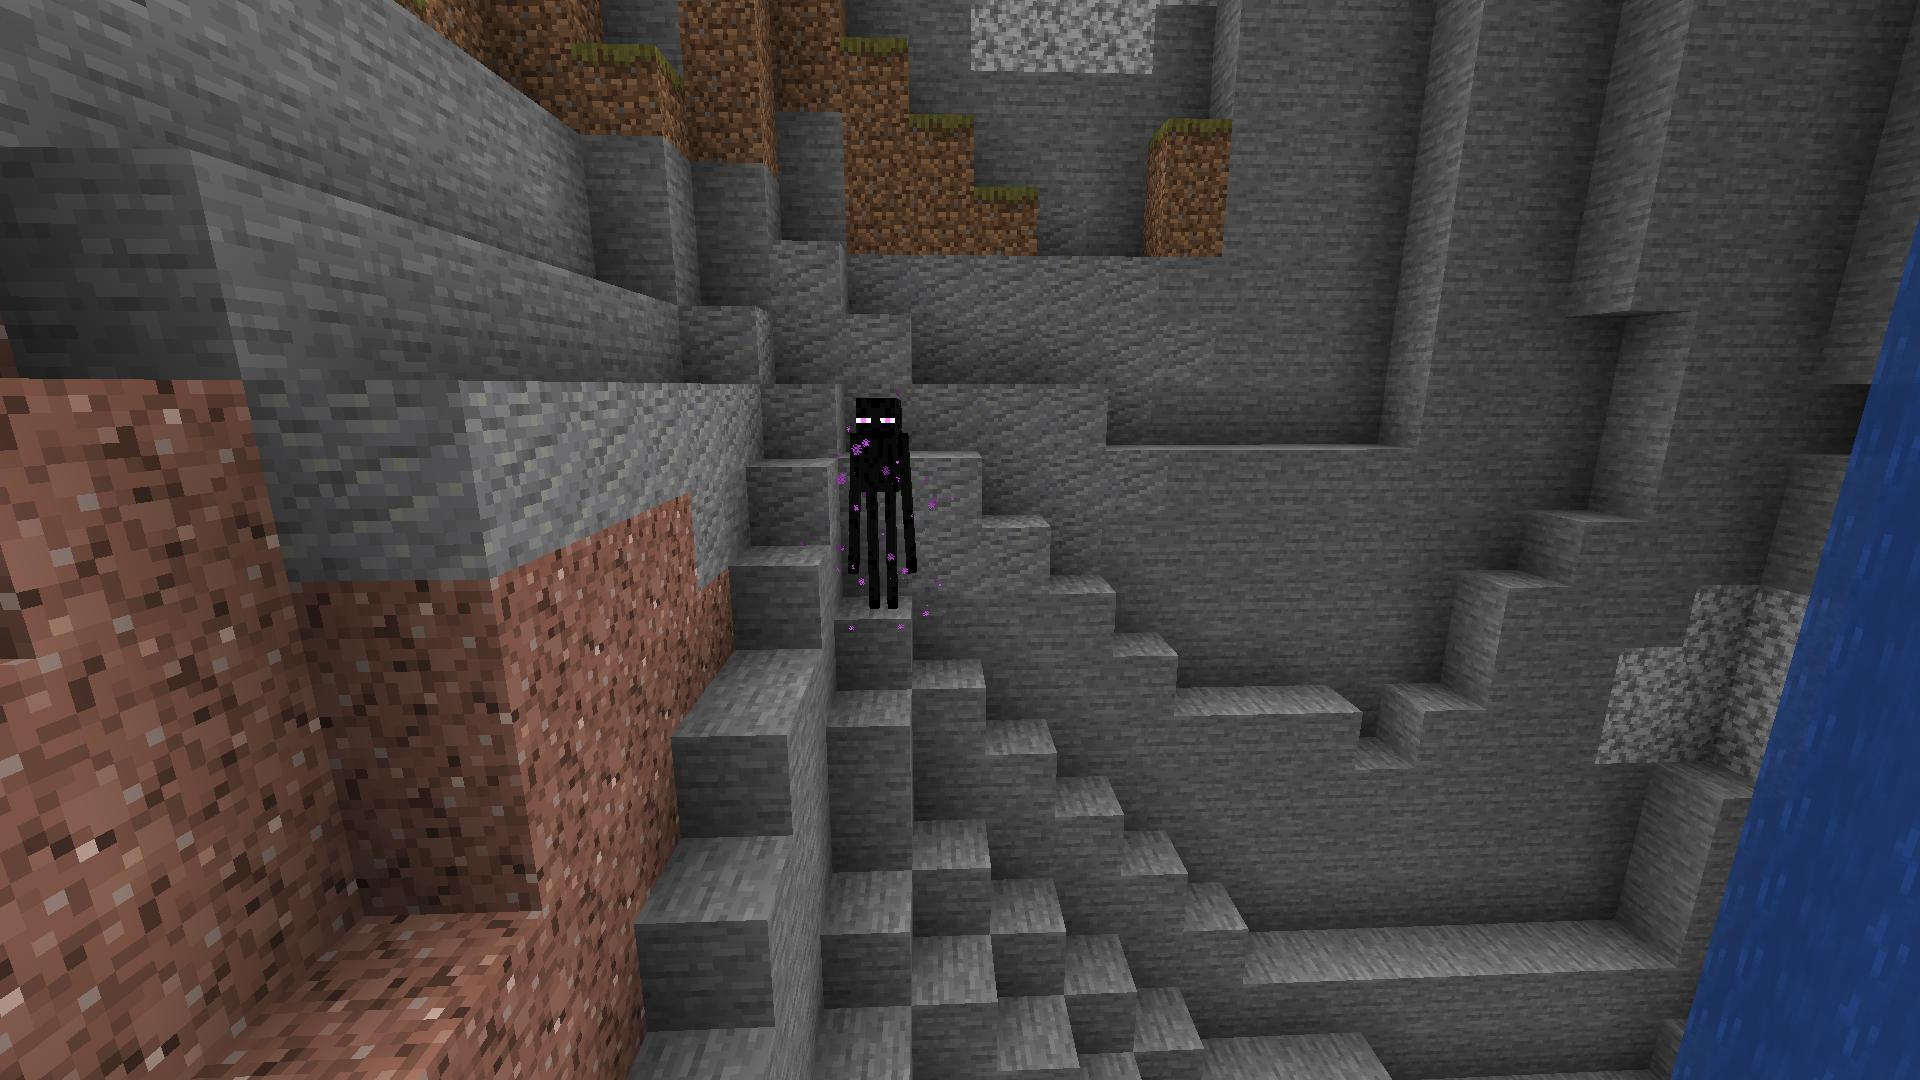enderman: (828, 363, 926, 632)
